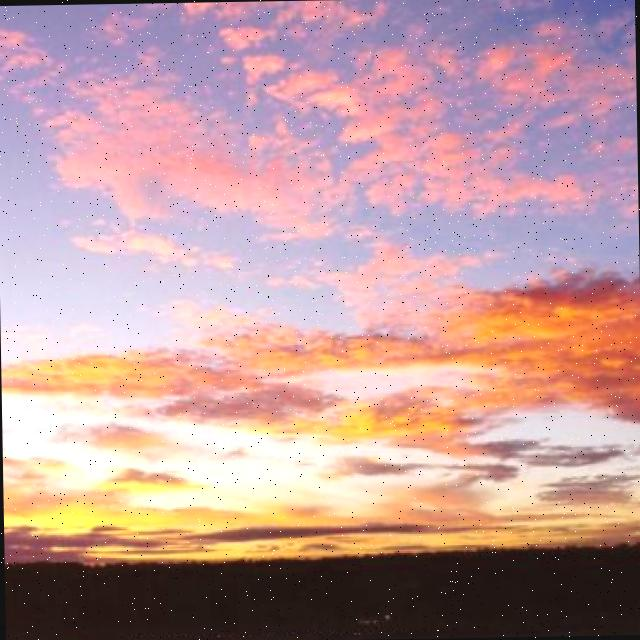As: (1, 18, 640, 430)
